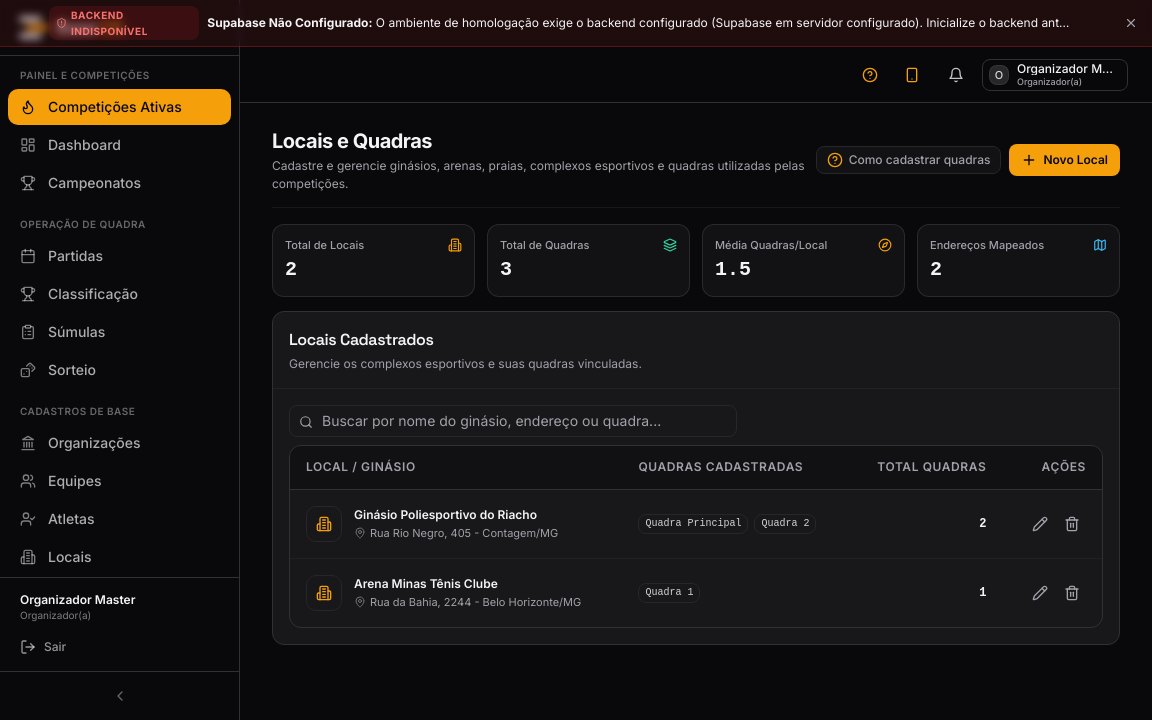
VenuesPage / LocationsPage Component (Fase 8.1) › abre o modal de criação ao clicar em Novo Local
expect the text "Ginásio Poliesportivo do Riacho" is shown: met, box [354,507,558,523]
Step 1. Click the button "Novo Local" → (1065, 160), box [1009,144,1120,176]
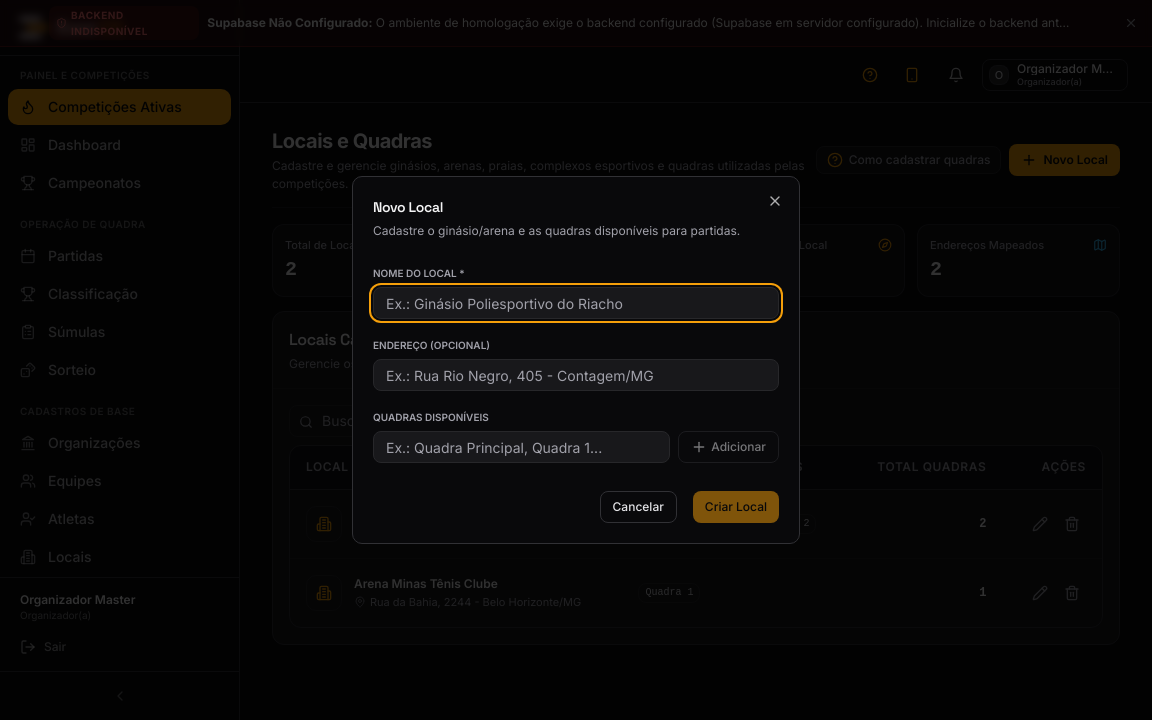
expect the dialog is shown: met, box [352,176,800,544]
expect the field labelled "Nome do local *" is shown: met, box [373,287,779,319]
